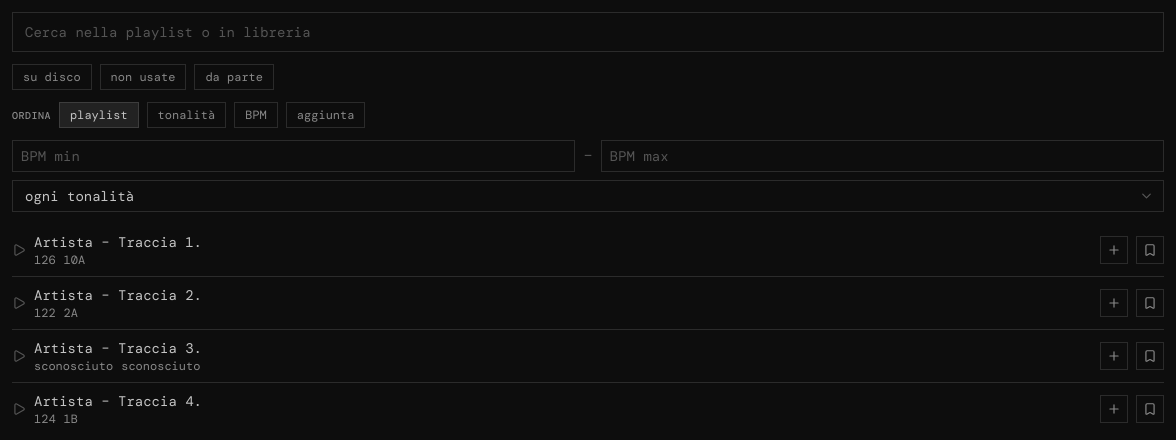
materiale: filtri › la tonalita' e' esatta, e se non resta niente lo dice
This screenshot has width=1176, height=440.
Select "2A" in the dropdown named "Tonalità": (588,196) [12, 180, 1164, 212]
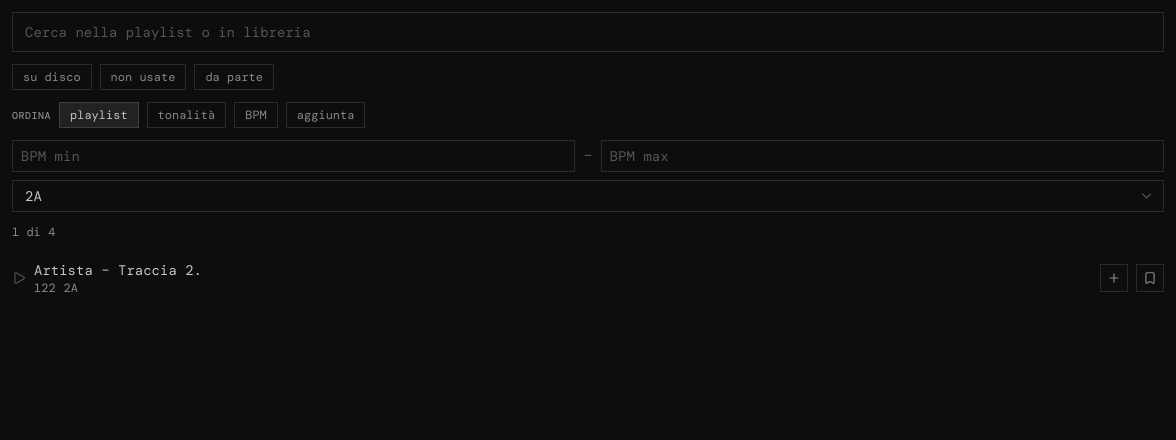
Select "5B" in the dropdown named "Tonalità": (588,196) [12, 180, 1164, 212]
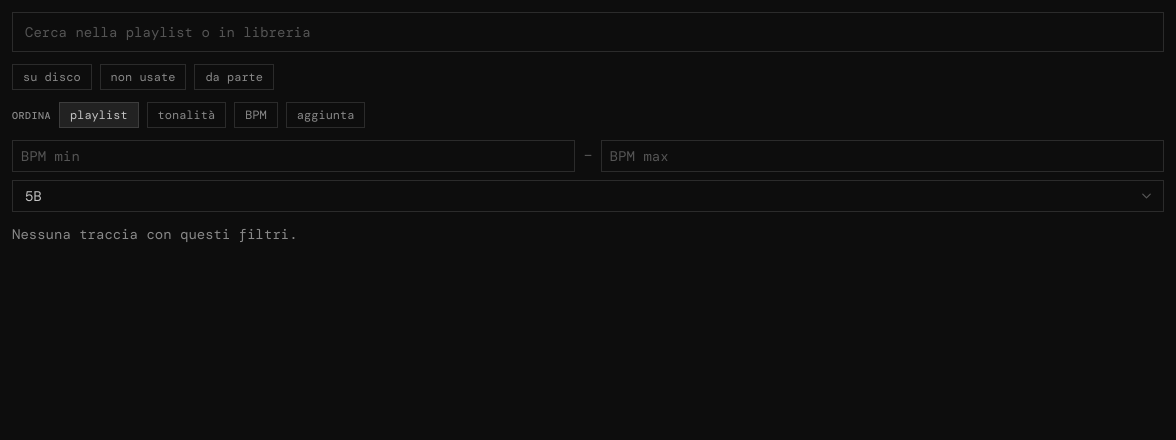
Now the text "Nessuna traccia con questi filtri." is shown, box [12, 225, 298, 243]
